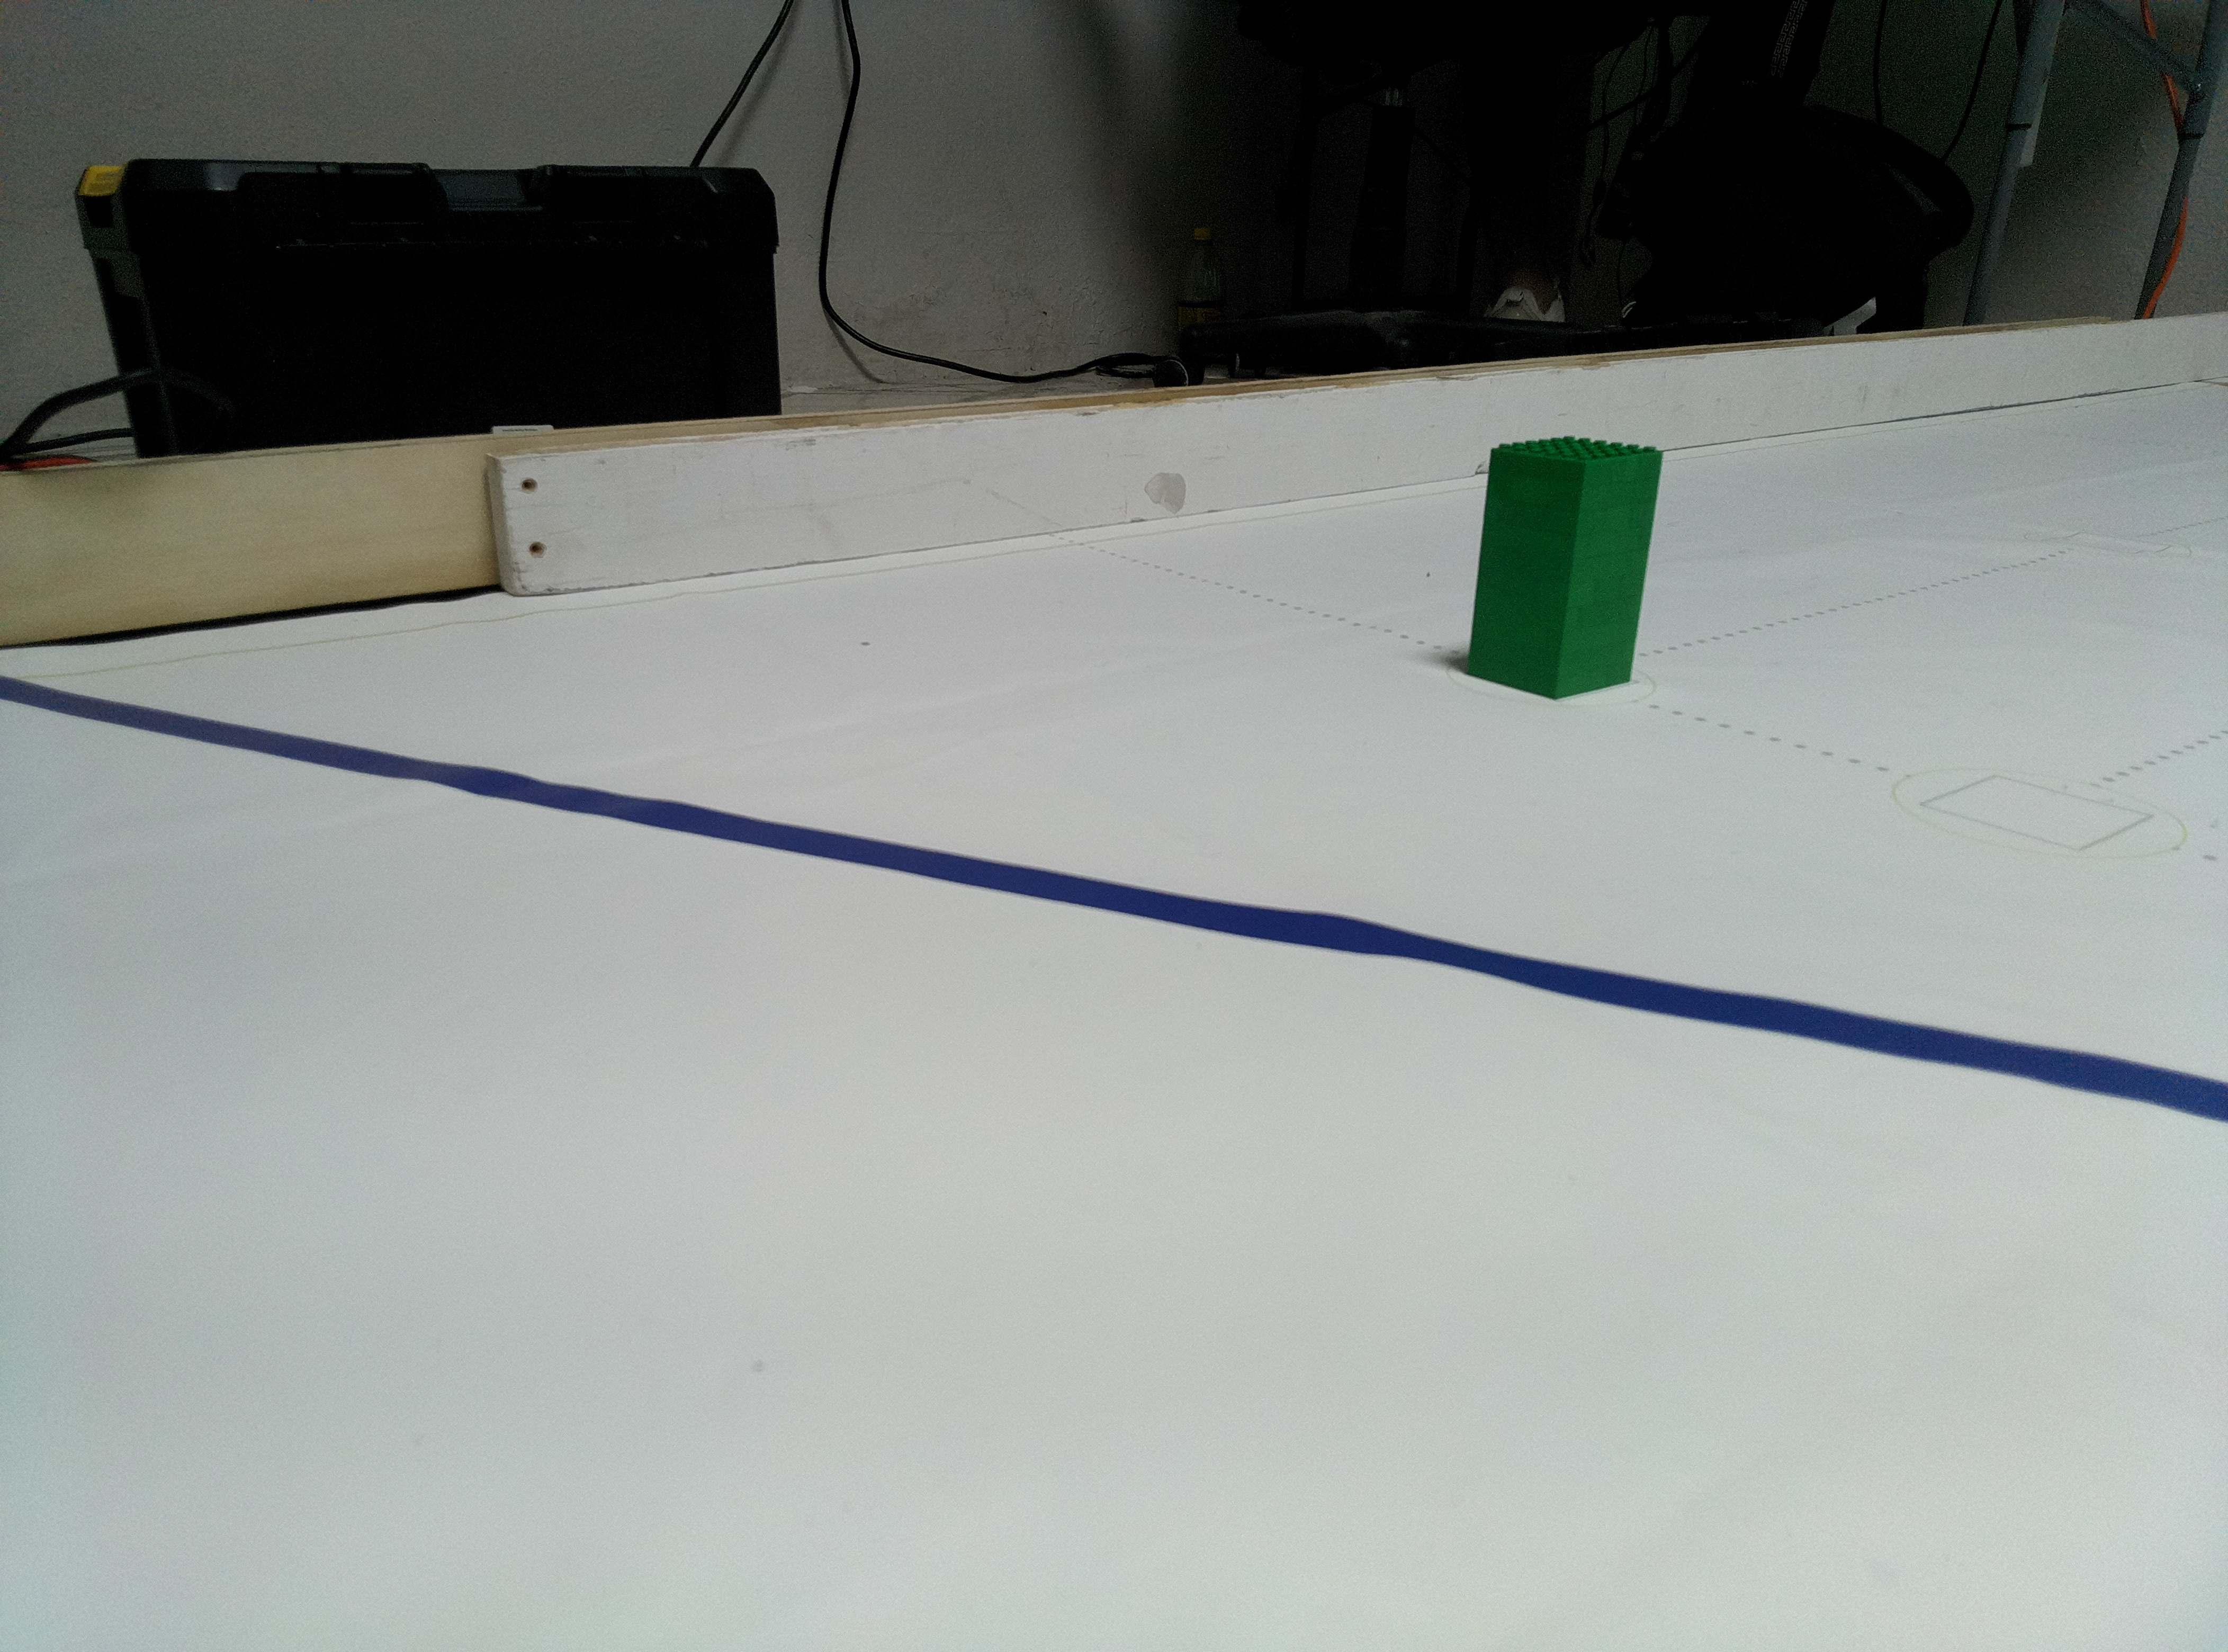greenbox: (1459, 430, 1661, 701)
